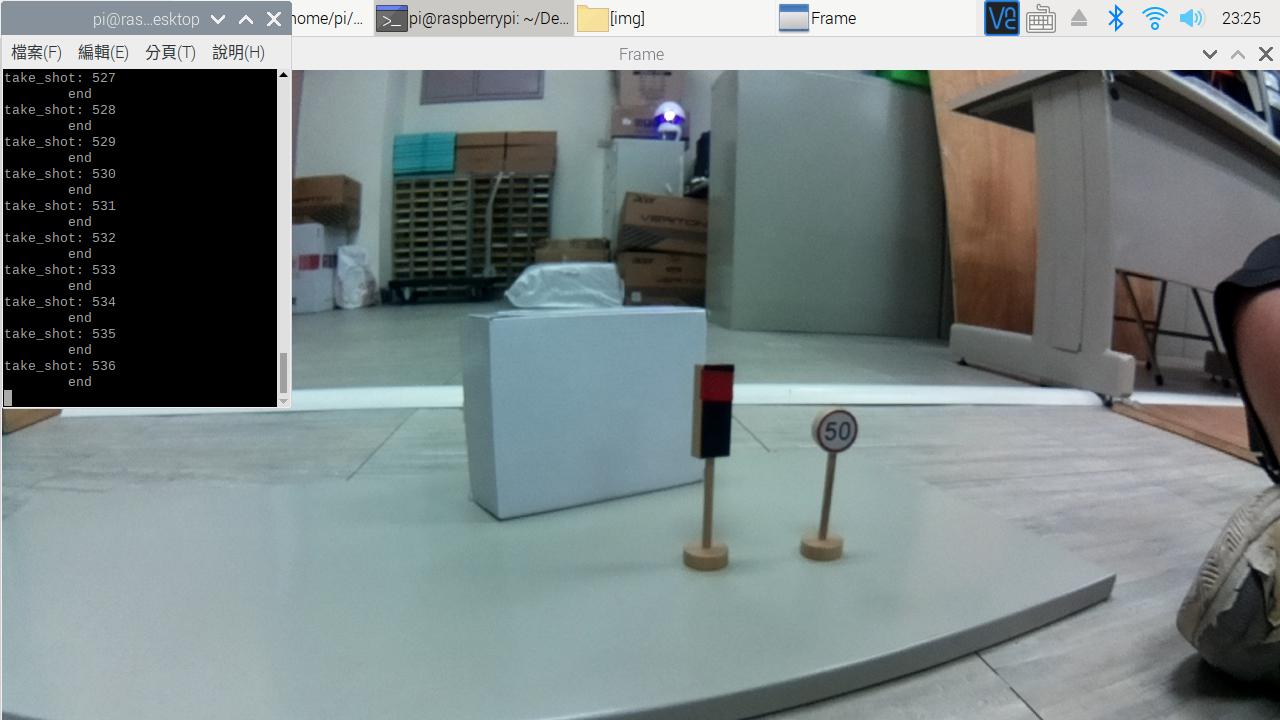Red: (691, 360, 743, 477)
Speed50: (805, 403, 866, 468)
